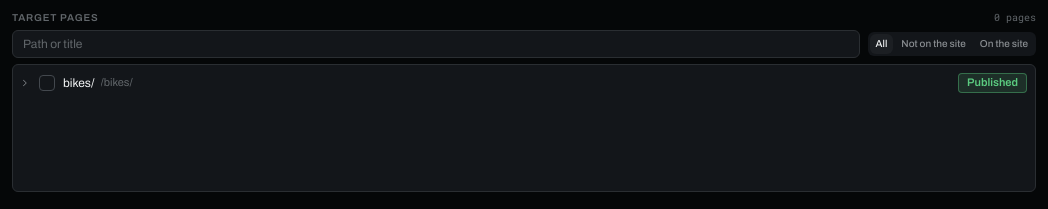
Test case: the run start's targets › refuses a page nothing is mapped to
This screenshot has width=1048, height=209.
Click the button named "Expand": click(25, 83) [17, 75, 33, 91]
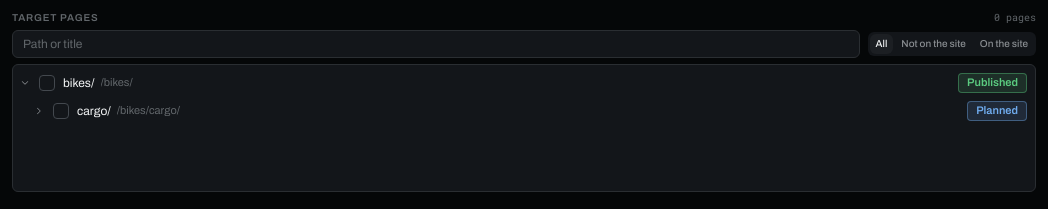
Click the button named "Expand": click(39, 111) [31, 103, 47, 119]
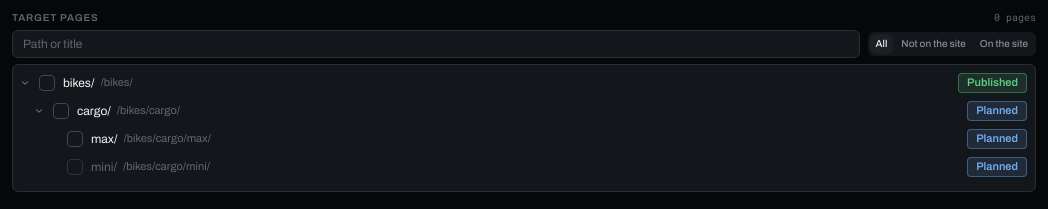
Check: the checkbox labelled "mini/" is disabled, box [67, 159, 117, 175]
